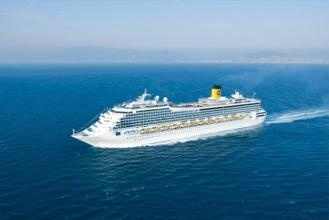youlun: (70, 79, 271, 149)
